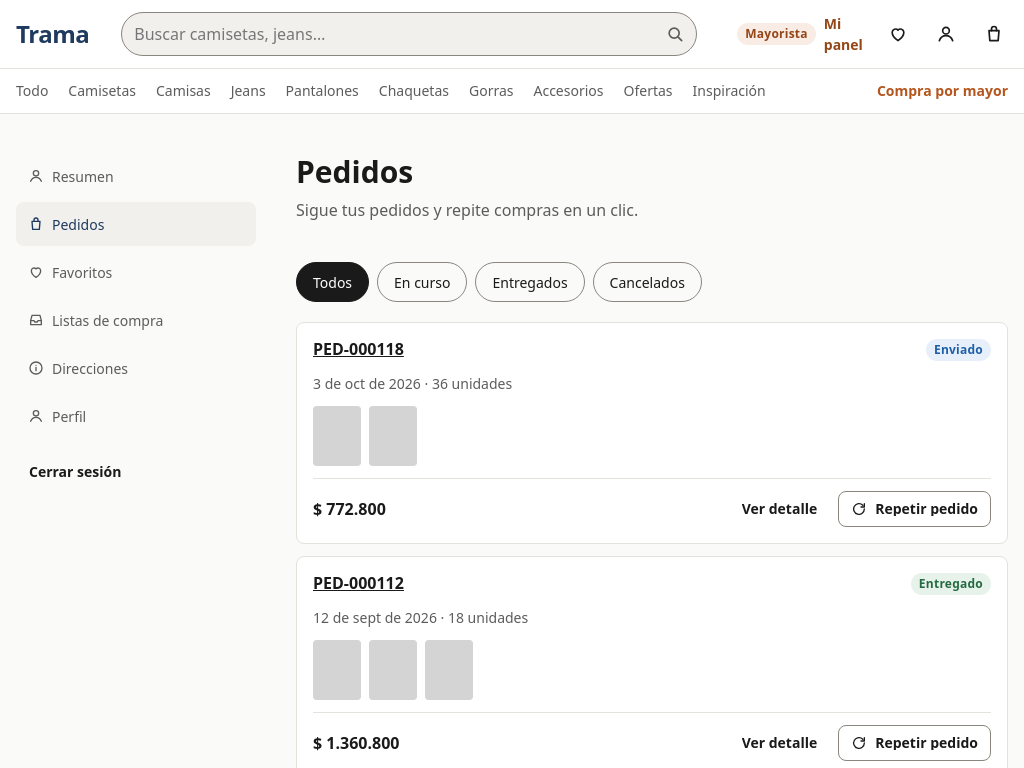
Pedidos y recompra › historial con filtros por estado
Click the link "Entregados": {"x": 530, "y": 282} [476, 262, 585, 302]
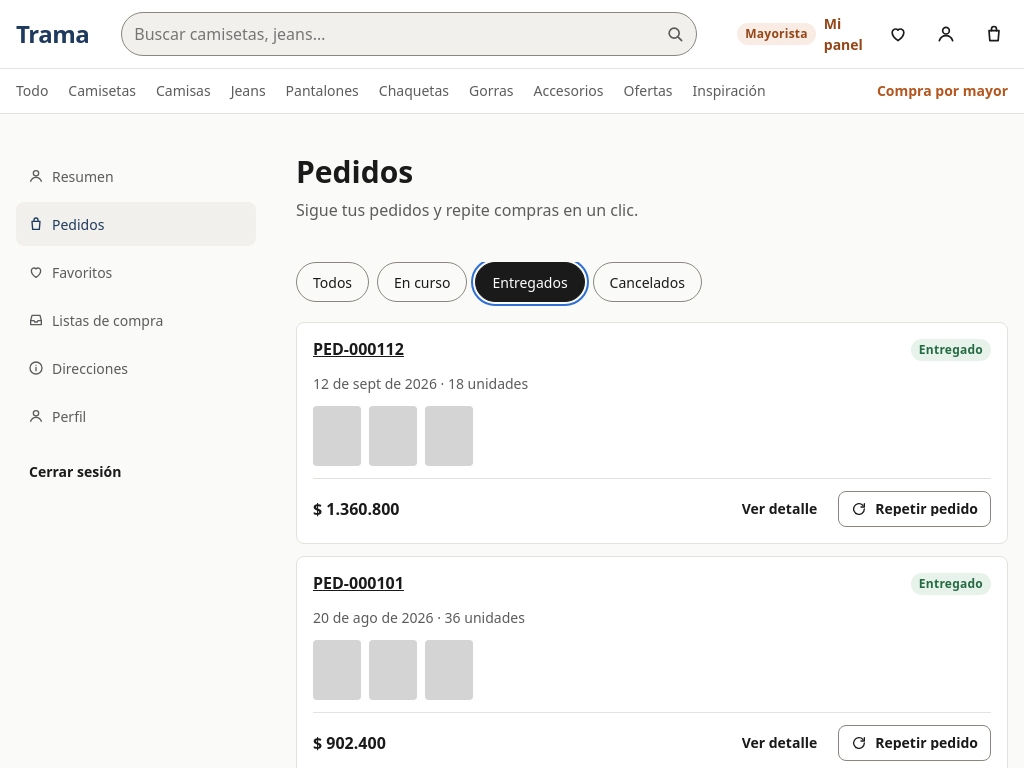
Click the link "En curso": {"x": 422, "y": 282} [377, 262, 468, 302]
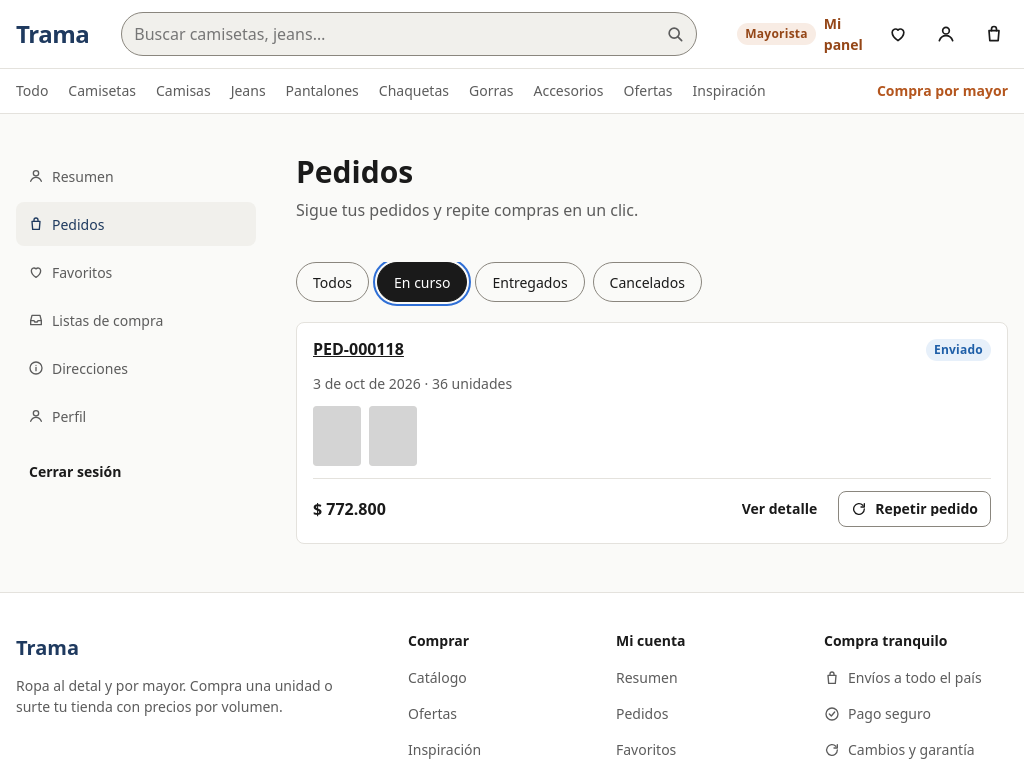
Expected: the link "PED-000118" is shown, [313, 338, 404, 360]
